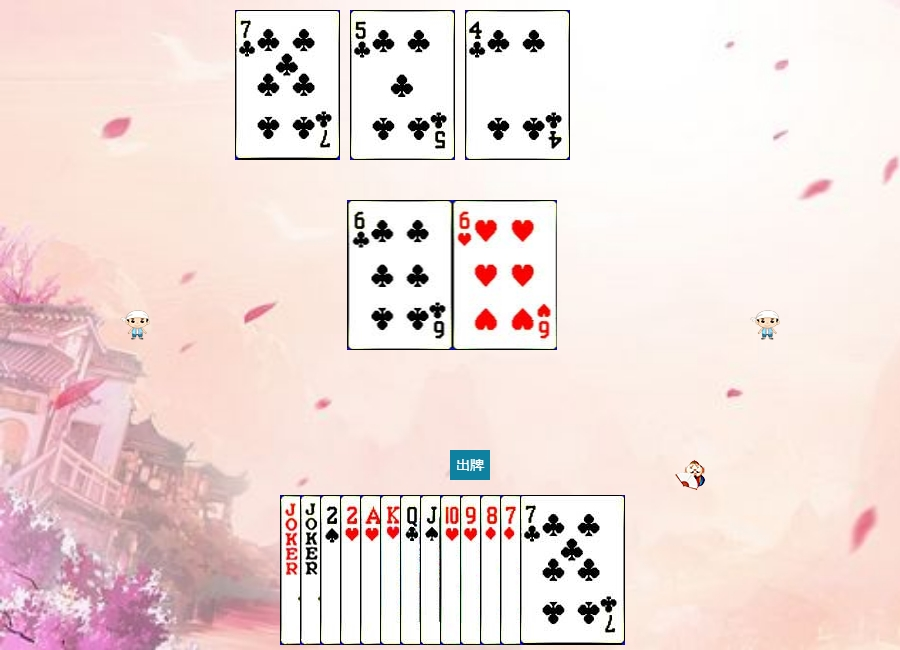10~3: (440, 495, 545, 645)
11~4: (420, 495, 525, 645)
12~2: (400, 495, 505, 645)
13~3: (380, 495, 485, 645)
14~3: (360, 495, 465, 645)
15~3: (340, 495, 445, 645)
15~4: (320, 495, 425, 645)
17~3: (300, 495, 405, 645)
18~4: (280, 495, 385, 645)
4~2: (465, 10, 570, 160)
5~2: (350, 10, 455, 160)
6~2: (348, 200, 453, 350)
6~3: (453, 200, 558, 350)
7~1: (500, 495, 605, 645)
7~2: (235, 10, 340, 160), (520, 495, 625, 645)
8~1: (480, 495, 585, 645)
9~3: (460, 495, 565, 645)
